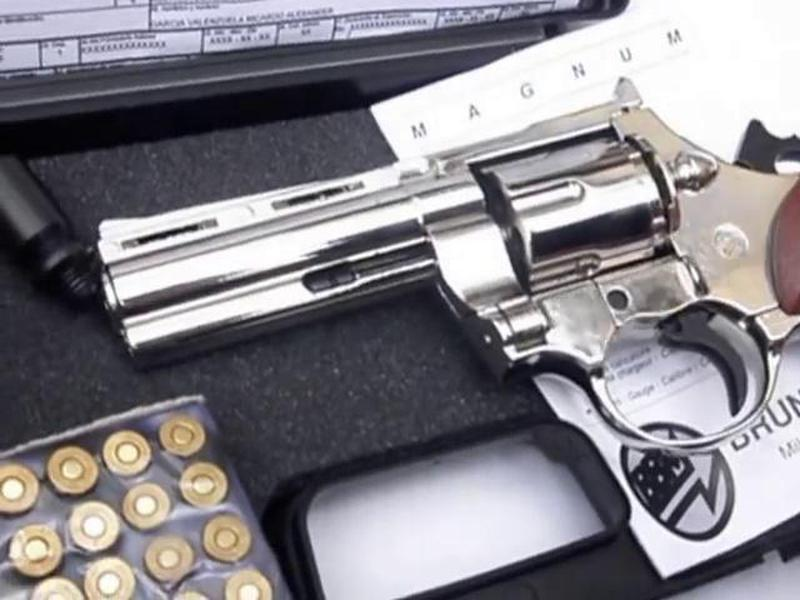Revolver: (95, 65, 800, 449)
